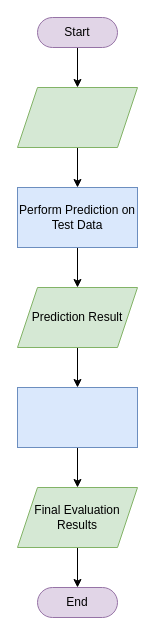
Image size: 155x635. Some labels were removed from this diagram. Each missing label, with the centre of its shape:
"Calculate Evaluation Metrics" belongs at [77,417].
"Test Data & Final Model" belongs at [77,117].
